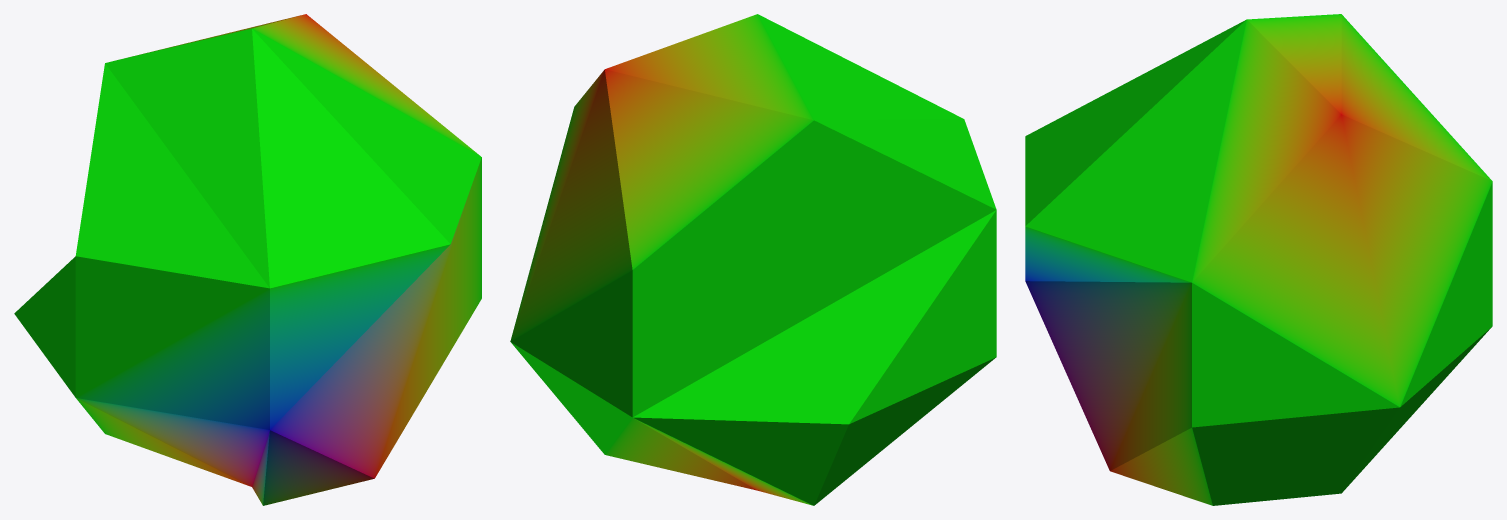
File: all_10.obj
The picture shows the model from 3 angles, left to right: view 1: azimuth 30°, elevation 25°; view 2: azimuth 150°, elevation 25°; view 3: azimuth 270°, elevation 25°; orthographic projection. The views are drawn at different scales.
Bounding box in the file's own units: 1.85 × 2 × 1.81.
